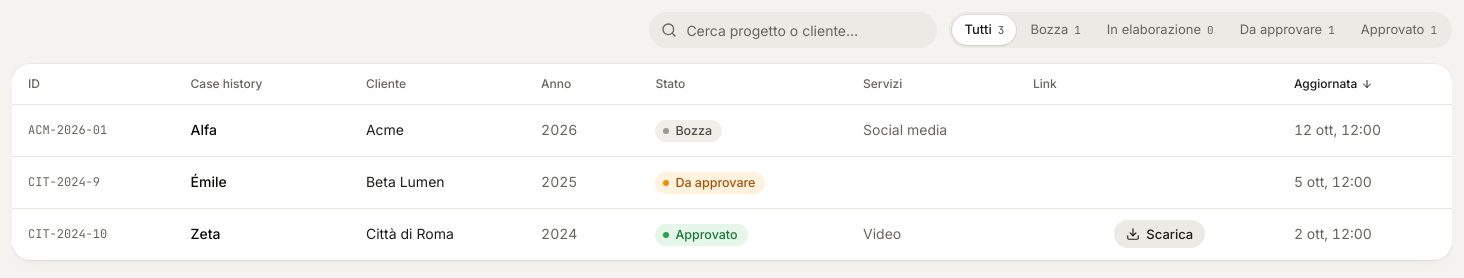
Test case: CaseStudiesTable › names both the search and the status when together they leave no rows
Click the radio button labelled "Da approvare 1": click(1287, 30) [1228,15,1347,45]
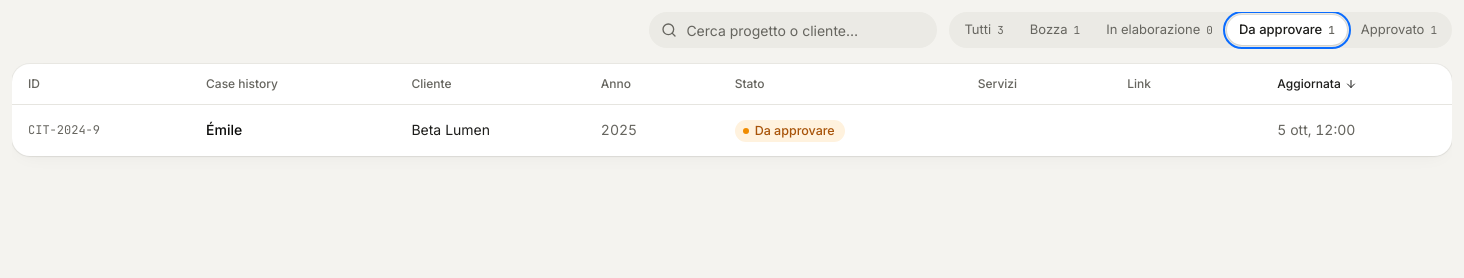
In the search field labelled "Cerca progetto o cliente": (793, 30) [649,12,937,48], type "zeta"
Wait 250 ms
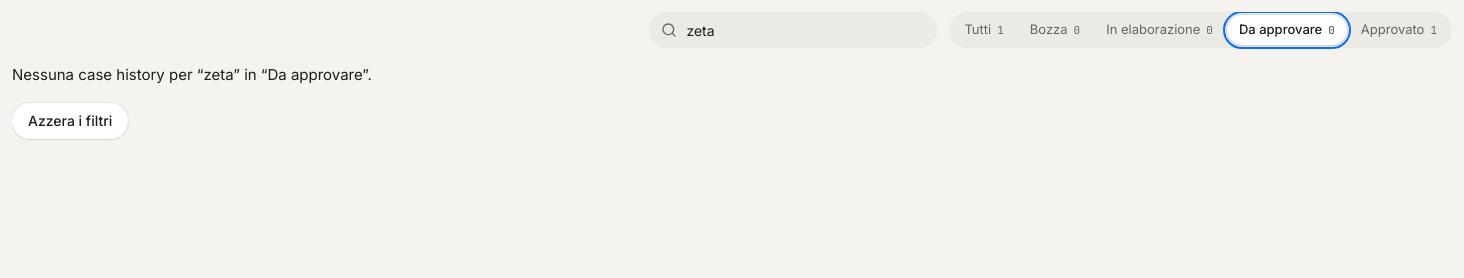
Expected: the table is gone
